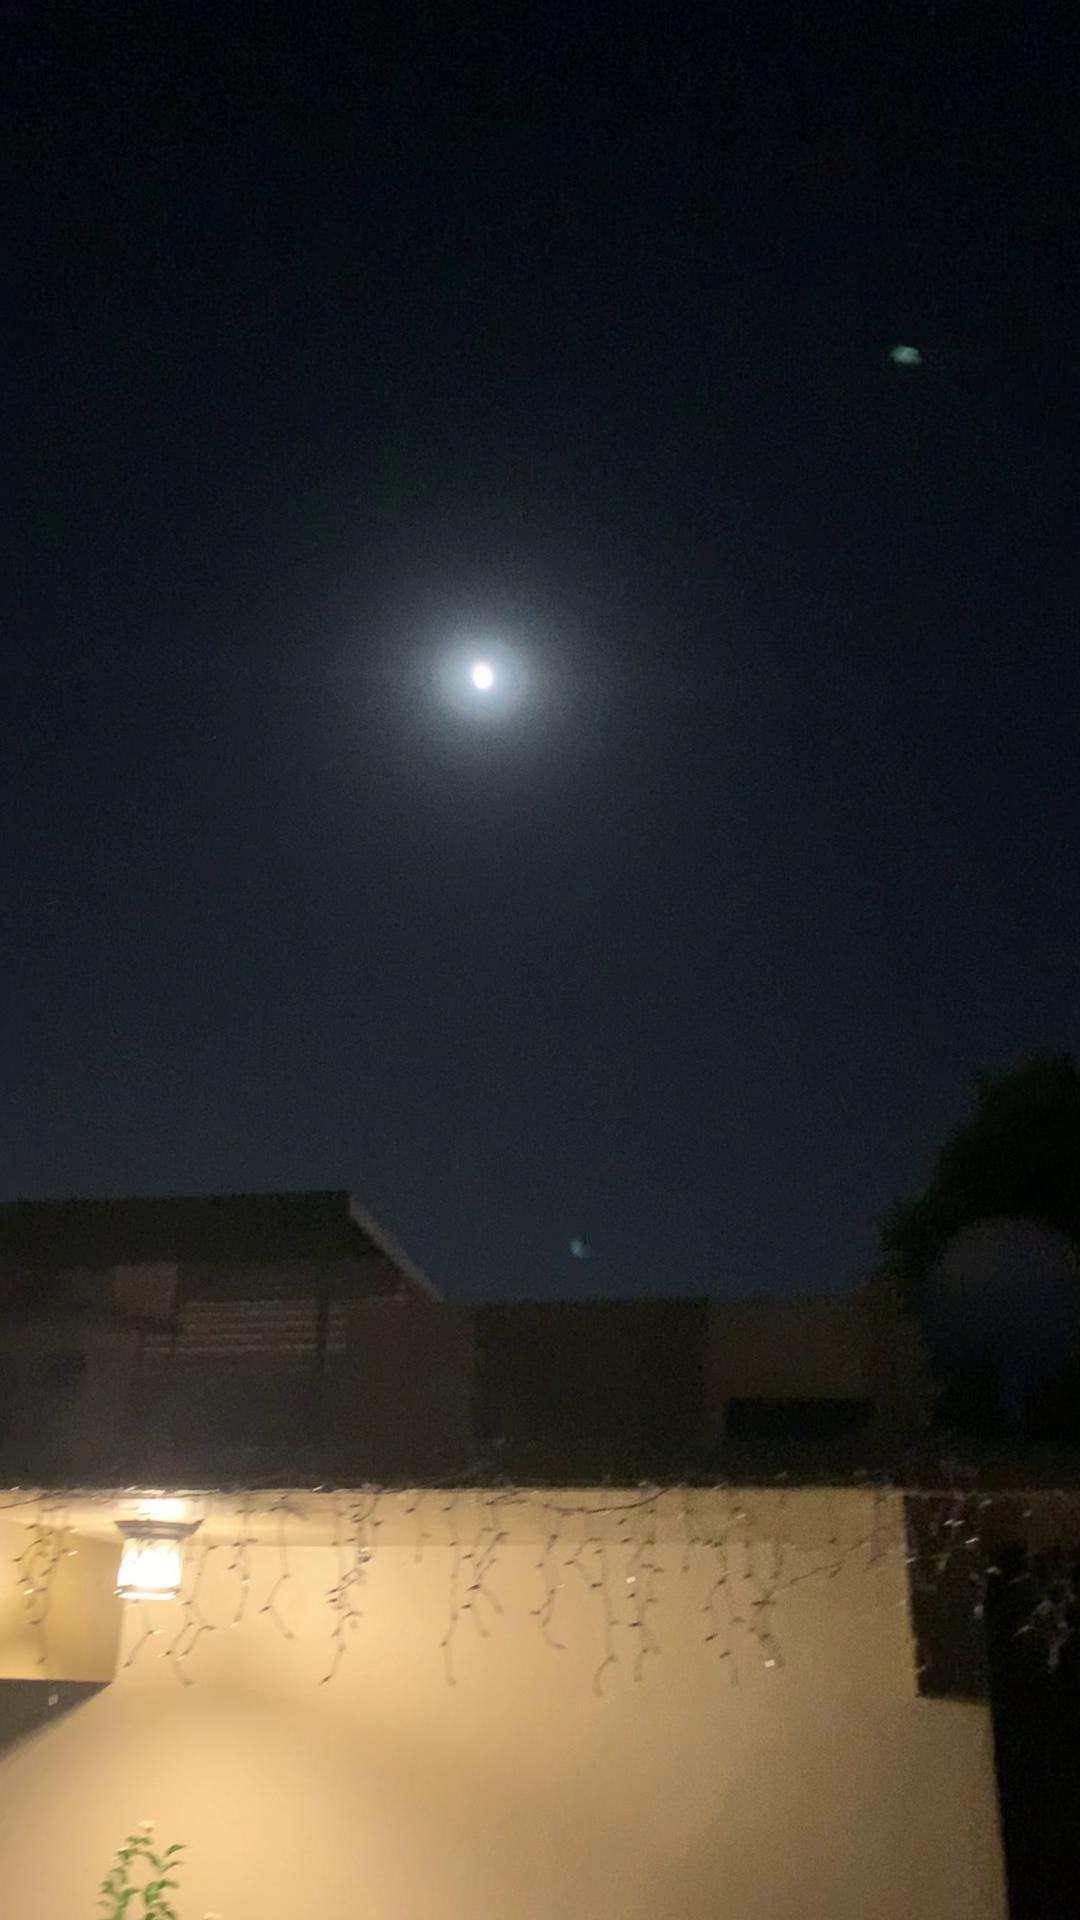moon: (459, 641, 546, 720)
